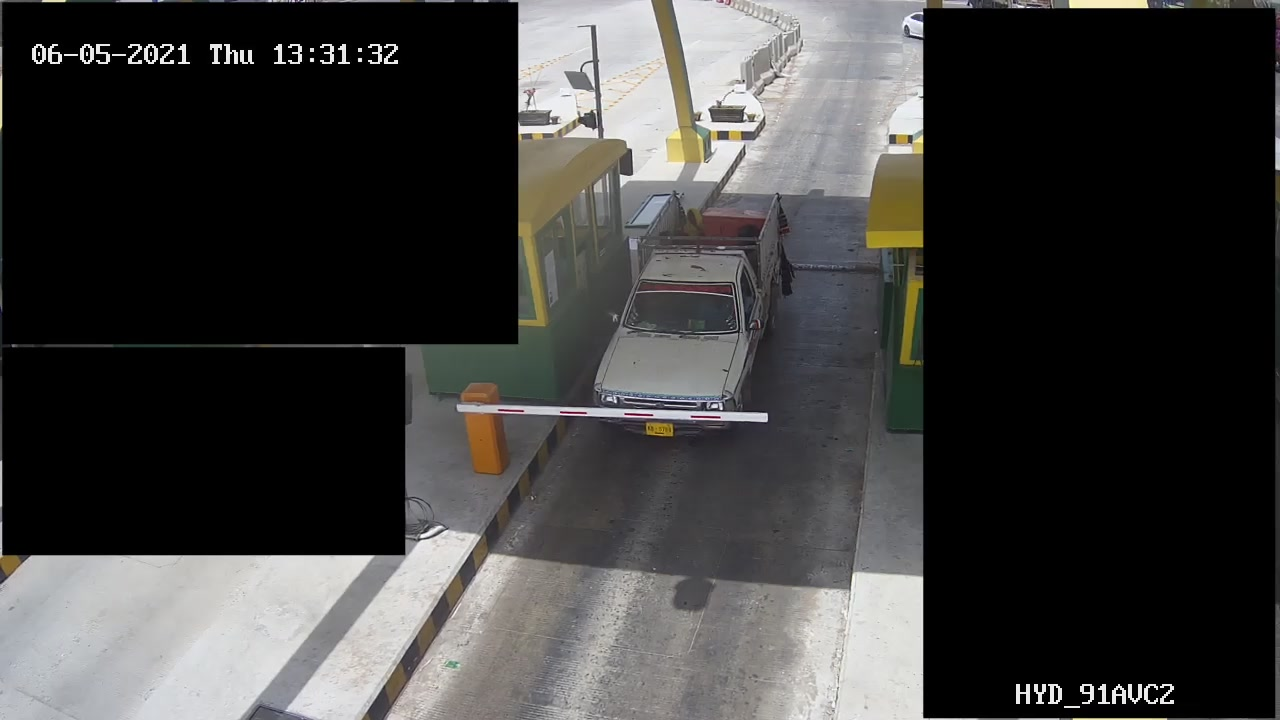F1: (580, 189, 792, 451)
